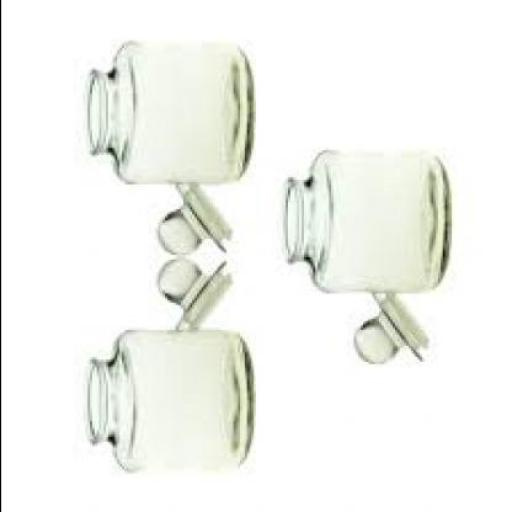glass: (280, 153, 449, 293), (82, 44, 250, 184), (82, 333, 250, 473), (351, 295, 423, 367), (153, 185, 225, 257), (153, 266, 230, 330)
